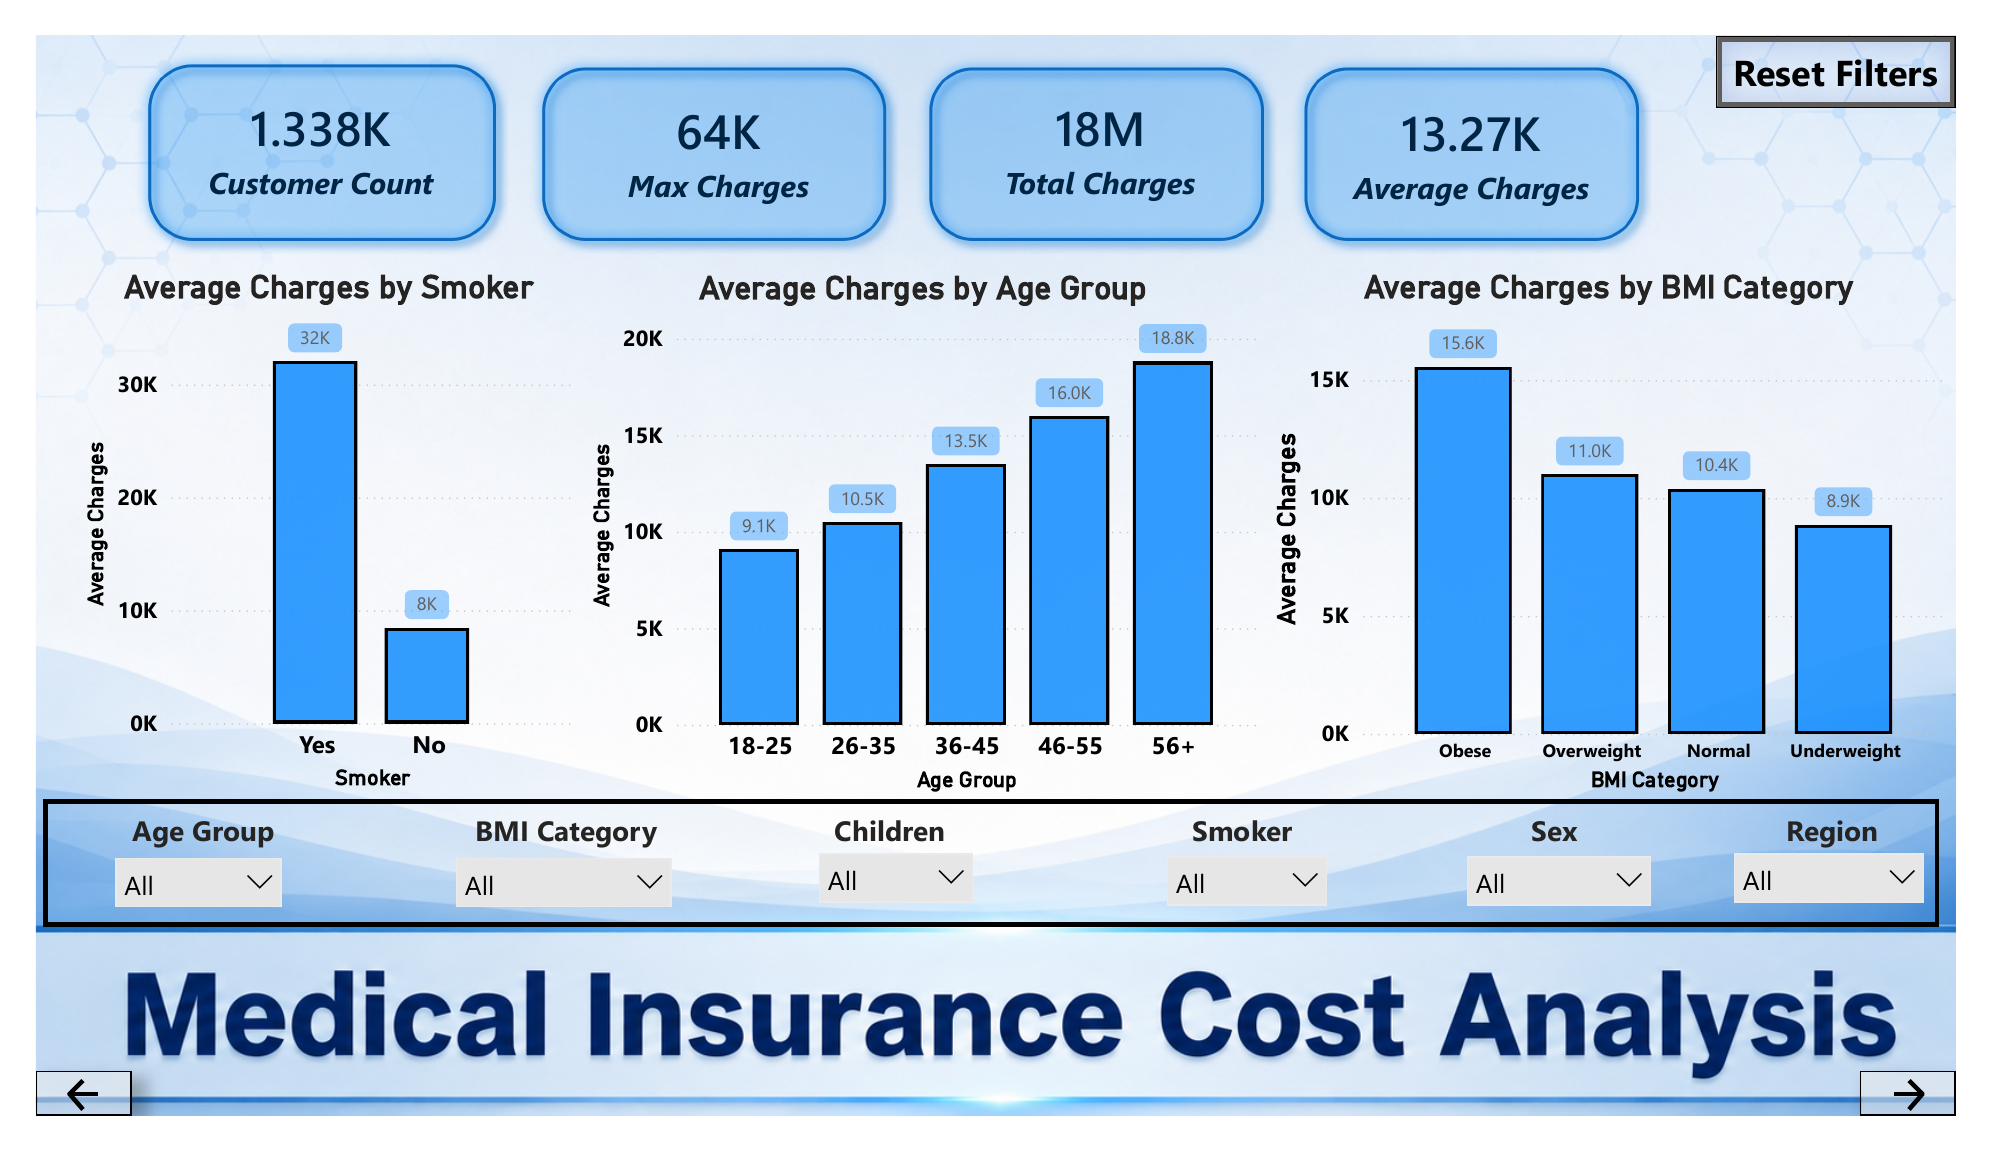

This screenshot's page, from the dashboard's own definition file:
{"tool":"powerbi","page":{"name":"Cost Overview","canvas":[1280,720],"ordinal":1},"visuals":[{"type":"clusteredColumnChart","fields":{"Category":["insurance.Smoker"],"Y":["insurance.Average Charges"]},"box":[27.4,155.1,336.2,352.7],"z":0},{"type":"cardVisual","fields":{"Data":["insurance.Average Charges"]},"box":[837.4,32.3,240,93.6],"z":1000},{"type":"cardVisual","fields":{"Data":["insurance.Total Charges"]},"box":[587.2,15.3,245.1,120.9],"z":2000},{"type":"cardVisual","fields":{"Data":["insurance.Customer Count"]},"box":[76.6,13.6,226.4,122.6],"z":3000},{"type":"cardVisual","fields":{"Data":["insurance.Max Charges"]},"box":[320,17,270.6,120.9],"z":4000},{"type":"shape","box":[837.4,11.9,240,132.8],"z":5000},{"type":"shape","box":[587.2,11.9,240,132.8],"z":6000},{"type":"shape","box":[328.5,11.9,246.8,132.8],"z":7000},{"type":"shape","box":[66.4,10.2,248.5,134.5],"z":8000},{"type":"columnChart","fields":{"Category":["insurance.Age Group"],"Y":["insurance.Average Charges"]},"box":[363.6,156.4,455.6,352.7],"z":9000},{"type":"columnChart","fields":{"Y":["insurance.Average Charges"],"Category":["insurance.BMI Category"]},"box":[819.2,155.1,459.7,354],"z":10000},{"type":"actionButton","box":[1215.8,690.2,64.5,30.2],"z":11000},{"type":"actionButton","box":[0,689.8,64.5,30.2],"z":12000},{"type":"slicer","title":"Smoker","fields":{"Values":["insurance.Smoker"]},"box":[743.7,536.5,127.6,98.8],"z":13000},{"type":"slicer","title":"Region","fields":{"Values":["insurance.Region"]},"box":[1122.5,535.2,146.8,98.8],"z":14000},{"type":"slicer","title":"Children","fields":{"Values":["insurance.Children"]},"box":[511.8,535.2,123.5,89.2],"z":15000},{"type":"slicer","title":"Sex","fields":{"Values":["insurance.Sex"]},"box":[944.1,536.5,142.7,86.4],"z":16000},{"type":"slicer","title":"BMI Category","fields":{"Values":["insurance.BMI Category"]},"box":[270.3,537.9,163.3,126.2],"z":17000},{"type":"slicer","title":"Age Group ","fields":{"Values":["insurance.Age Group"]},"box":[42.5,537.9,131.7,93.3],"z":18000},{"type":"textbox","box":[5.5,509.1,1263.8,85.1],"z":19000},{"type":"actionButton","box":[1120,0,160,47.7],"z":19001}]}

Visuals, with their boxes in screenshot pixels (x1, y1, x2, y2), scaled from the page's 1280x720 canvas onto the 1992x1152 screenshot:
clusteredColumnChart - insurance.Smoker x insurance.Average Charges: <region>43, 248, 566, 812</region>
cardVisual - insurance.Average Charges: <region>1303, 52, 1677, 201</region>
cardVisual - insurance.Total Charges: <region>914, 24, 1295, 218</region>
cardVisual - insurance.Customer Count: <region>119, 22, 472, 218</region>
cardVisual - insurance.Max Charges: <region>498, 27, 919, 221</region>
shape: <region>1303, 19, 1677, 232</region>
shape: <region>914, 19, 1287, 232</region>
shape: <region>511, 19, 895, 232</region>
shape: <region>103, 16, 490, 232</region>
columnChart - insurance.Age Group x insurance.Average Charges: <region>566, 250, 1275, 815</region>
columnChart - insurance.Average Charges x insurance.BMI Category: <region>1275, 248, 1990, 815</region>
actionButton: <region>1892, 1104, 1991, 1151</region>
actionButton: <region>0, 1104, 100, 1151</region>
"Smoker" slicer: <region>1157, 858, 1356, 1016</region>
"Region" slicer: <region>1747, 856, 1975, 1014</region>
"Children" slicer: <region>796, 856, 989, 999</region>
"Sex" slicer: <region>1469, 858, 1691, 997</region>
"BMI Category" slicer: <region>421, 861, 675, 1063</region>
"Age Group " slicer: <region>66, 861, 271, 1010</region>
textbox: <region>9, 815, 1975, 951</region>
actionButton: <region>1743, 0, 1991, 76</region>
